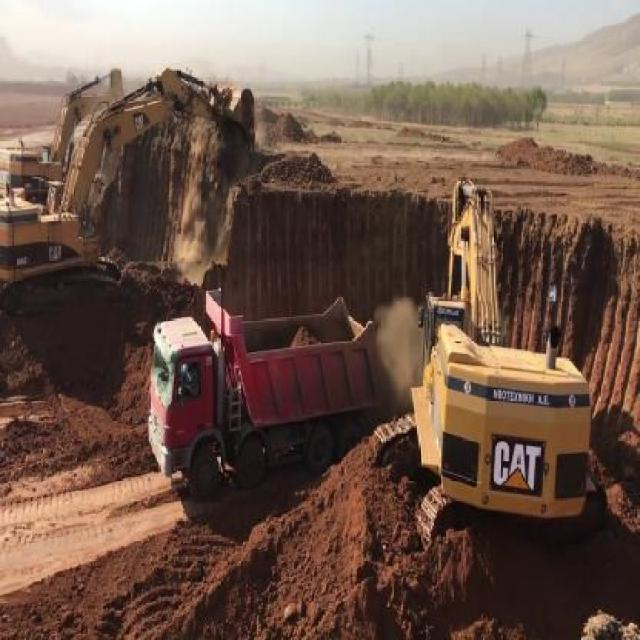Dump Truck: (146, 289, 382, 493)
Excavator: (373, 176, 590, 550), (0, 60, 260, 302)
